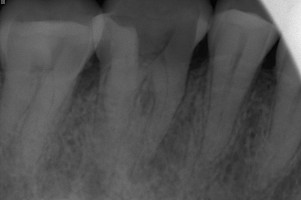Furcation Involvement: (127, 154, 167, 186), (82, 161, 109, 200)
